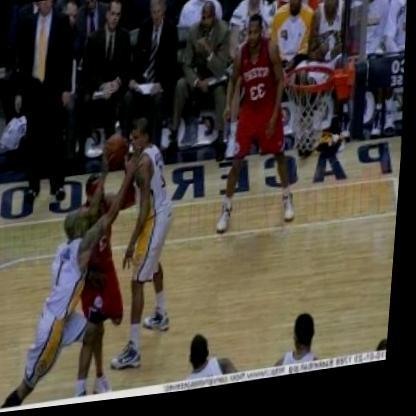basketball: (104, 130, 138, 171)
